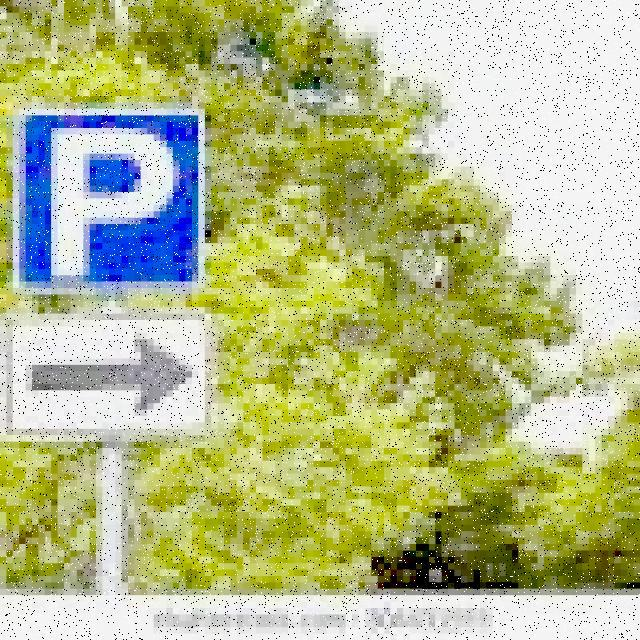Traffic sign: (2, 103, 223, 448)
